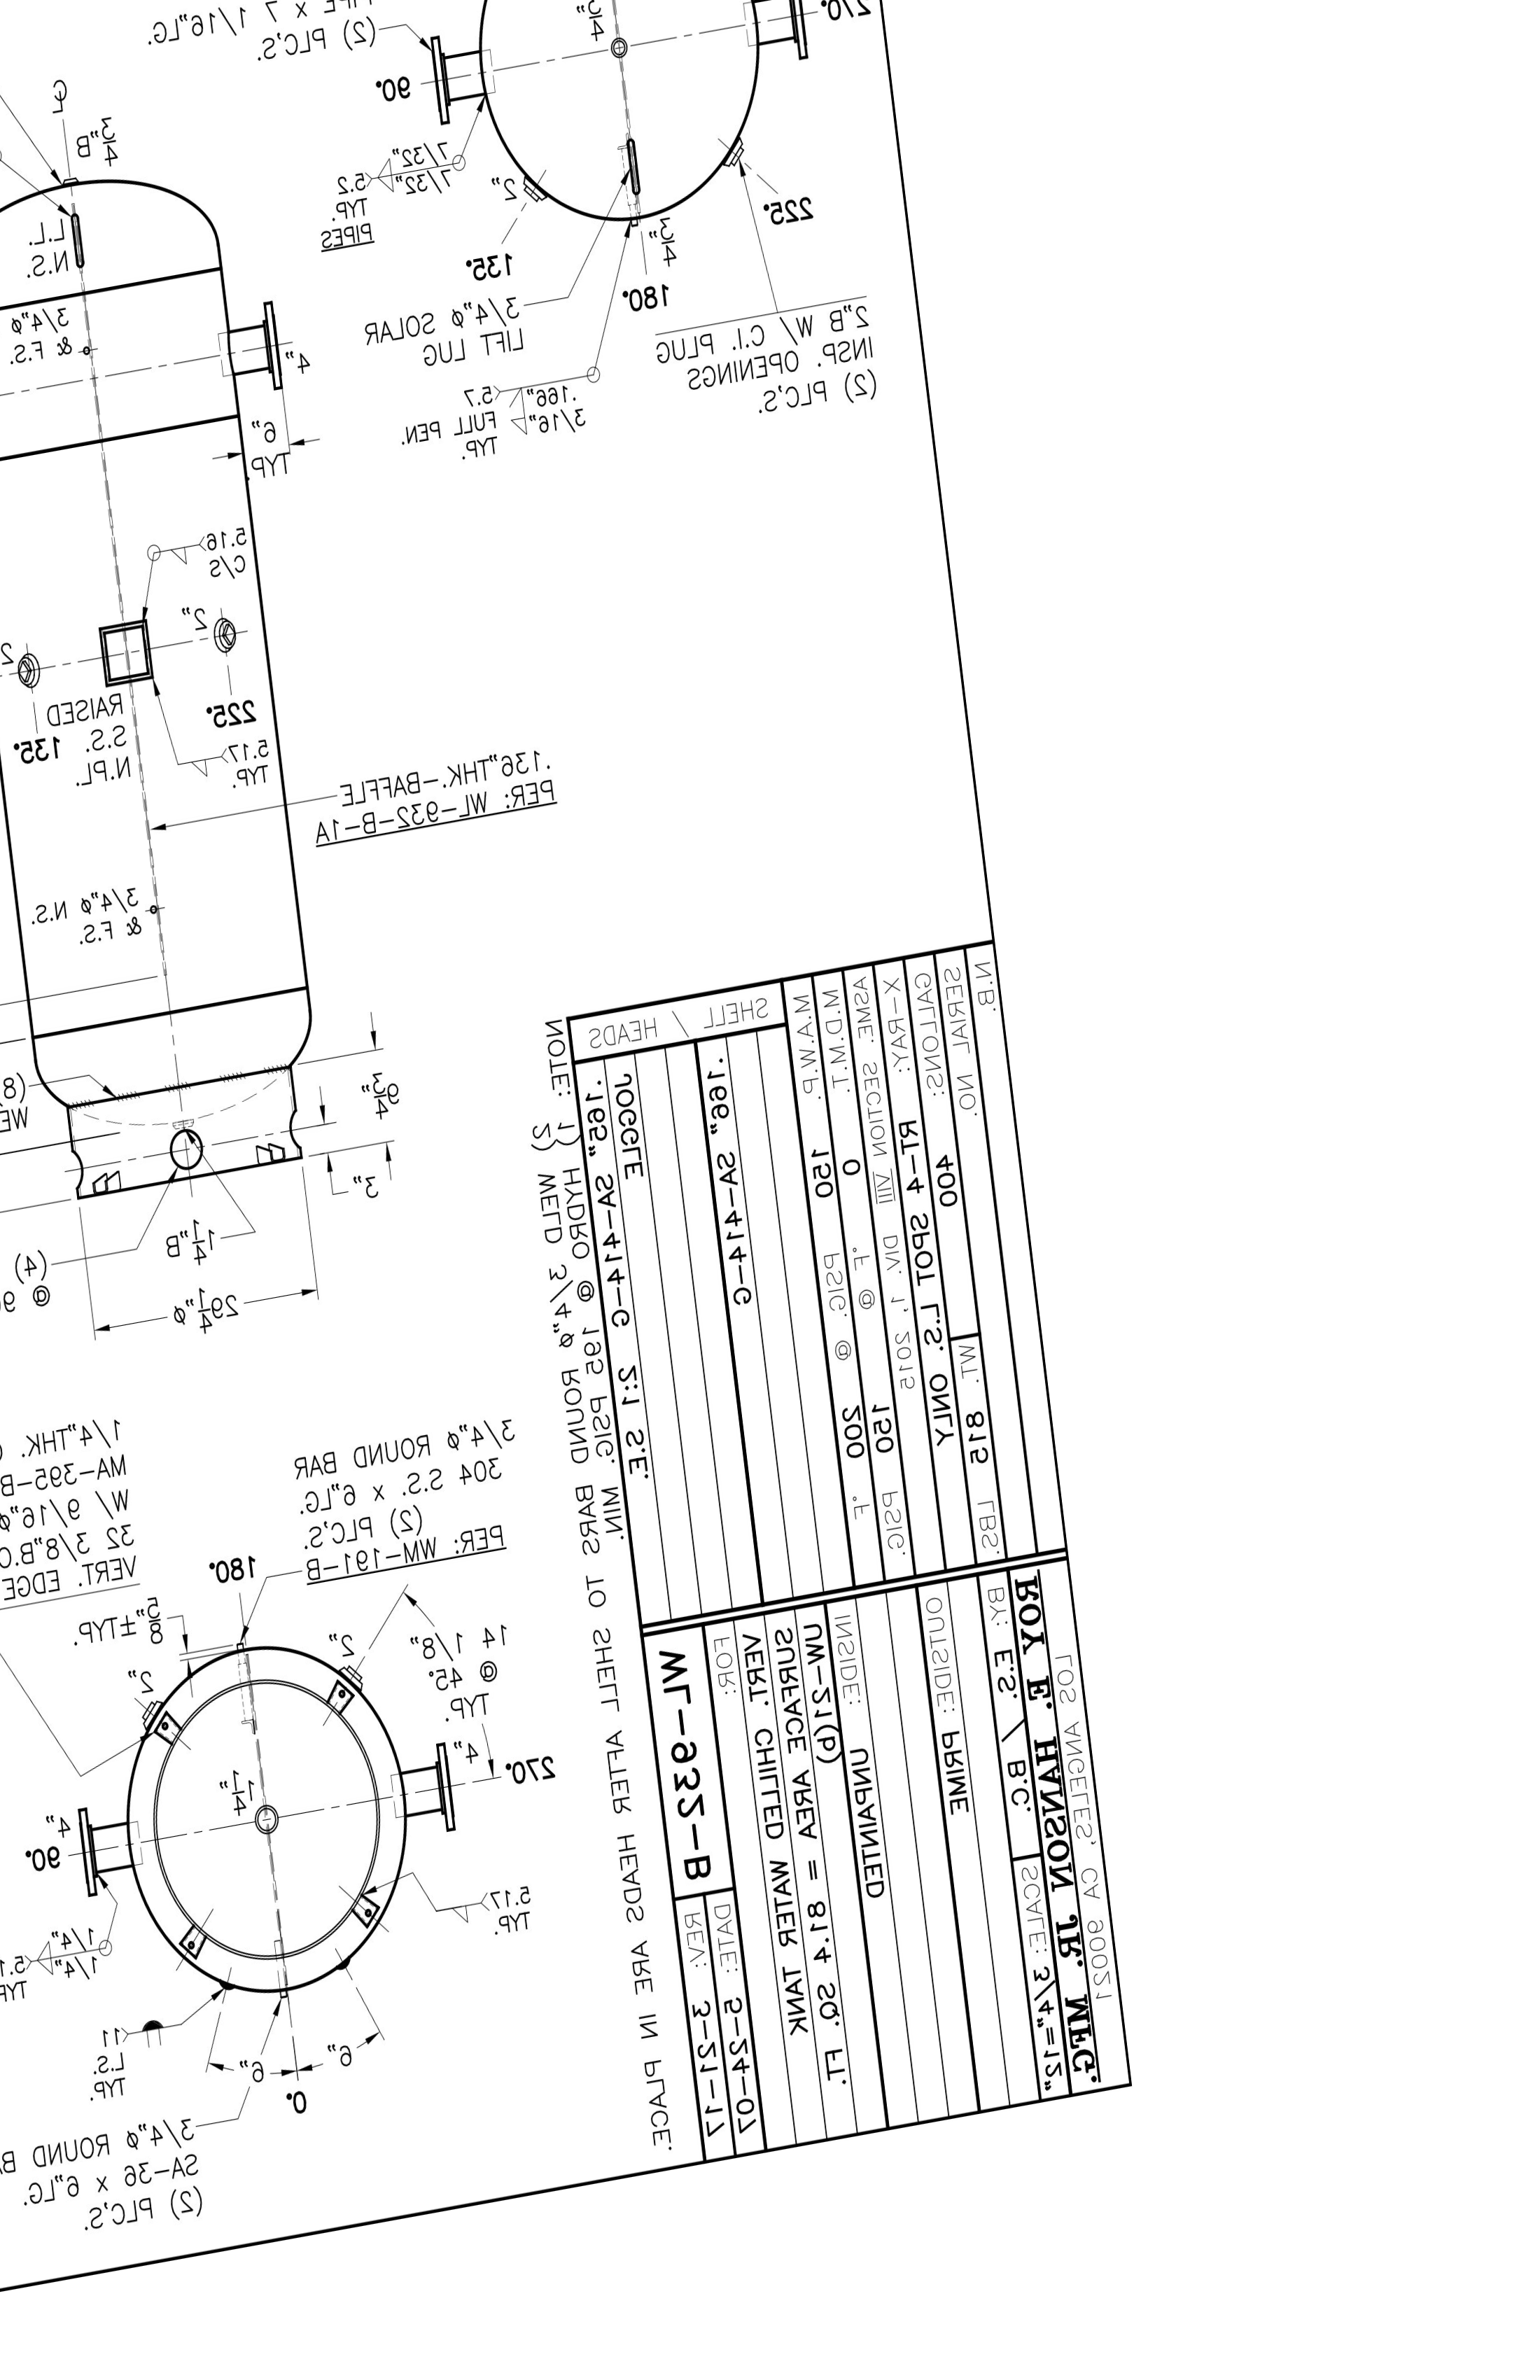Nozzle: (373, 1735, 510, 1872), (388, 16, 531, 141), (201, 297, 338, 413), (49, 1787, 168, 1912), (721, 0, 838, 76)
